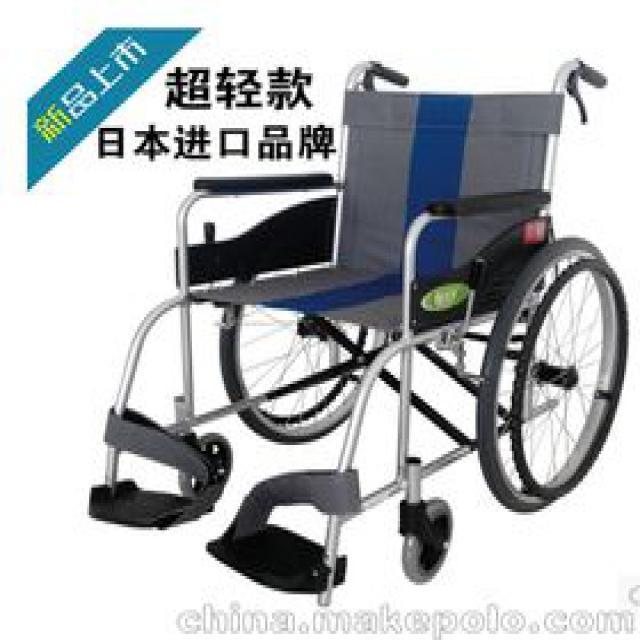wheelchairs: (94, 63, 626, 592)
